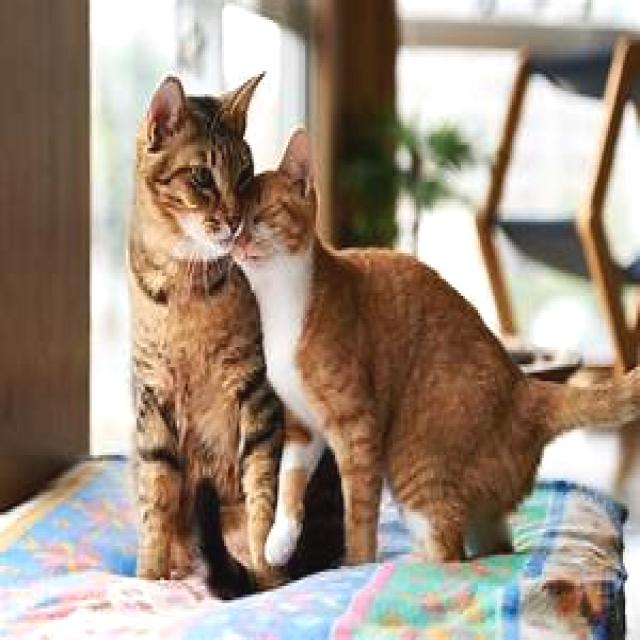KEDI: (244, 126, 632, 557), (126, 75, 270, 576)
